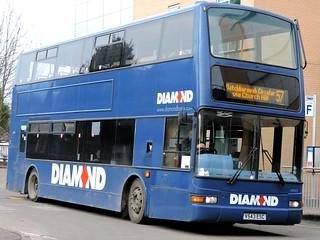bus: (9, 9, 301, 231)
